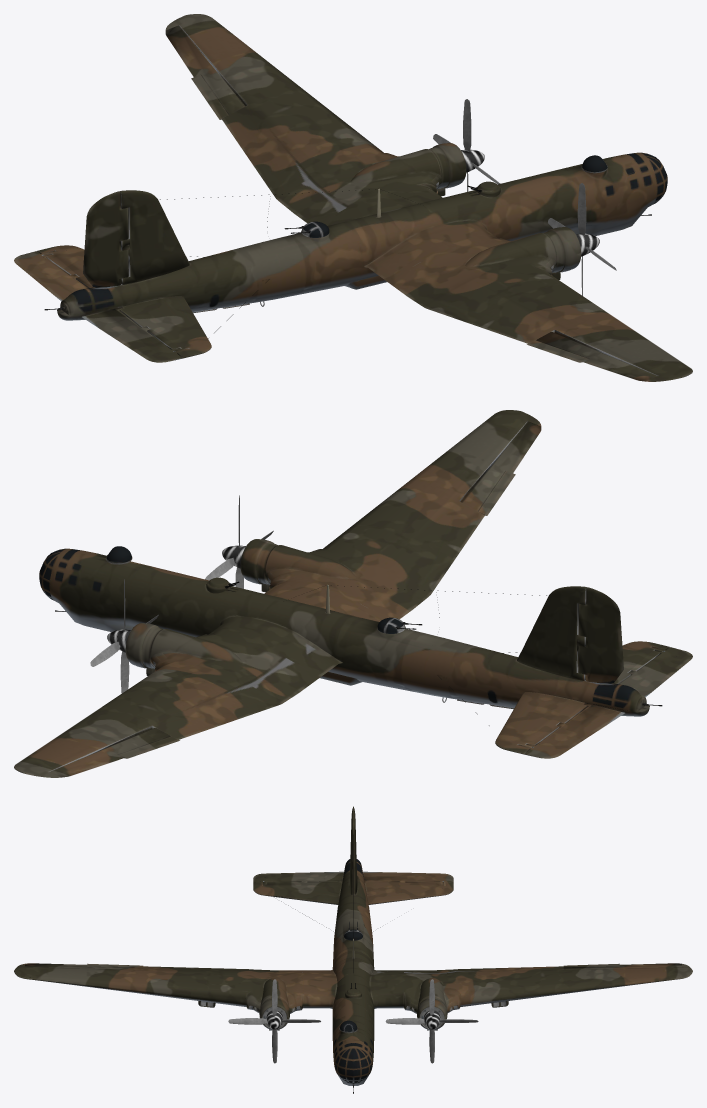
Rendered from fh_hangar_bomber_t1.glb.
The picture shows the model from 3 angles, top to bottom: view 1: azimuth 30°, elevation 25°; view 2: azimuth 150°, elevation 25°; view 3: azimuth 270°, elevation 25°; orthographic projection. The views are drawn at different scales.
Visible parts, largest first — view 1: fh_hangar_bomber_t1, flap_l2, flap_r2, flap_r, slat_l; view 2: fh_hangar_bomber_t1, flap_r2, flap_l2, flap_l, slat_r; view 3: fh_hangar_bomber_t1, slat_l, slat_r.
Boxes of the visible parts, box(x1,y1,x2,y2) form: fh_hangar_bomber_t1: box(14, 14, 692, 381); flap_l2: box(229, 116, 308, 198); flap_r2: box(426, 289, 538, 339); flap_r: box(371, 250, 427, 286); slat_l: box(305, 98, 383, 153); fh_hangar_bomber_t1: box(14, 410, 692, 777); flap_r2: box(398, 512, 477, 594); flap_l2: box(168, 685, 280, 735); flap_l: box(279, 646, 335, 682); slat_r: box(323, 494, 401, 549); fh_hangar_bomber_t1: box(14, 806, 692, 1093); slat_l: box(461, 983, 549, 1006); slat_r: box(157, 983, 245, 1006).
Bounding box in the file's own units: 1 × 0.2647 × 1.38.
Materials: 3 (2 with a texture image).
